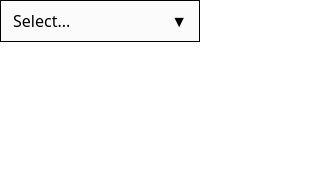
it: Select 组件 › 应该在选择选项后关闭下拉菜单
What coordinates should you click on to do the following:
click the text "Select..."
I would click on:
 (42, 21)
Its box is [13,9,70,33].
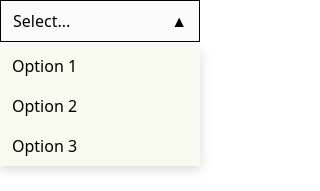
What coordinates should you click on to do the following:
click the option "Option 1"
I would click on:
 (45, 66)
Its box is [12,55,77,77].
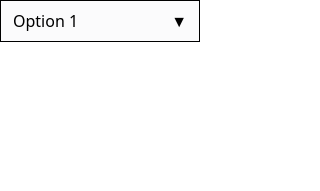
Now the text "Select..." reads "Option 1", box [13,10,78,32]
